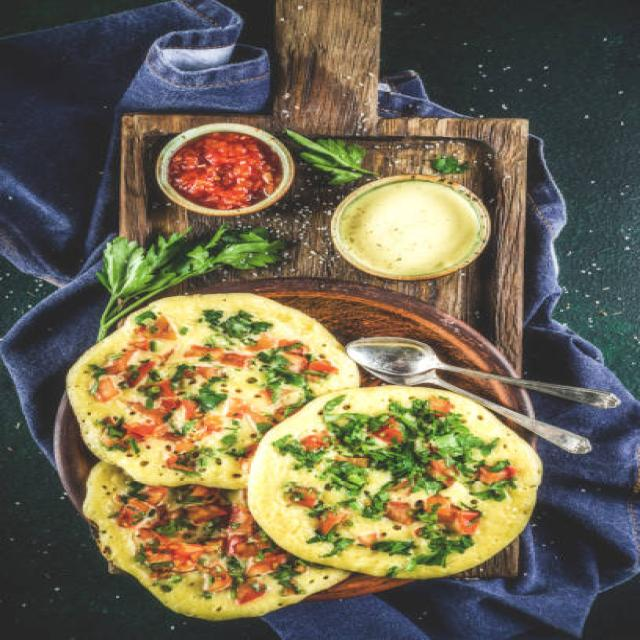DOSA: (61, 300, 541, 619)
PICKLE: (176, 134, 284, 206)
WHITE CHUTNEY: (348, 182, 482, 270)
